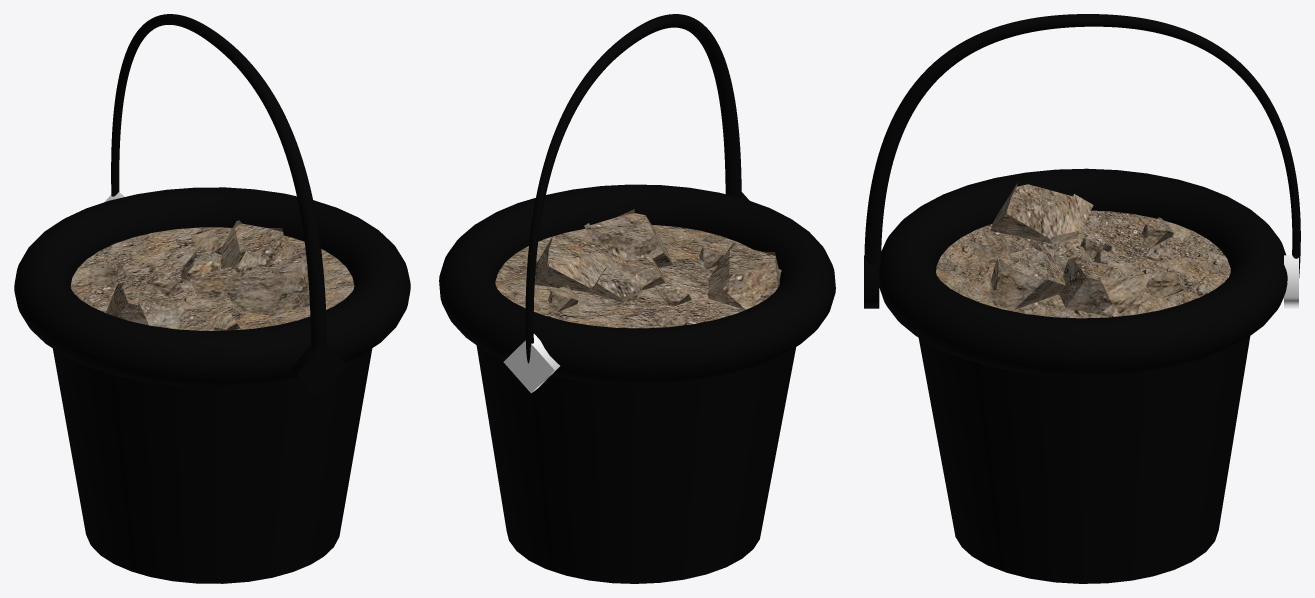
File: land.fbx
3 views of the same model, side by side, from view 1: azimuth 30°, elevation 25°; view 2: azimuth 150°, elevation 25°; view 3: azimuth 270°, elevation 25° (orthographic). The views are drawn at different scales.
Visible parts, largest first — view 1: land; view 2: land; view 3: land.
Boxes of the visible parts, x1,y1,x2,y2 form: land: (14,14,410,583); land: (439,14,835,583); land: (864,14,1300,583).
Bounding box in the file's own units: 34.68 × 47.78 × 36.72.
Materials: 3 (1 with a texture image).
